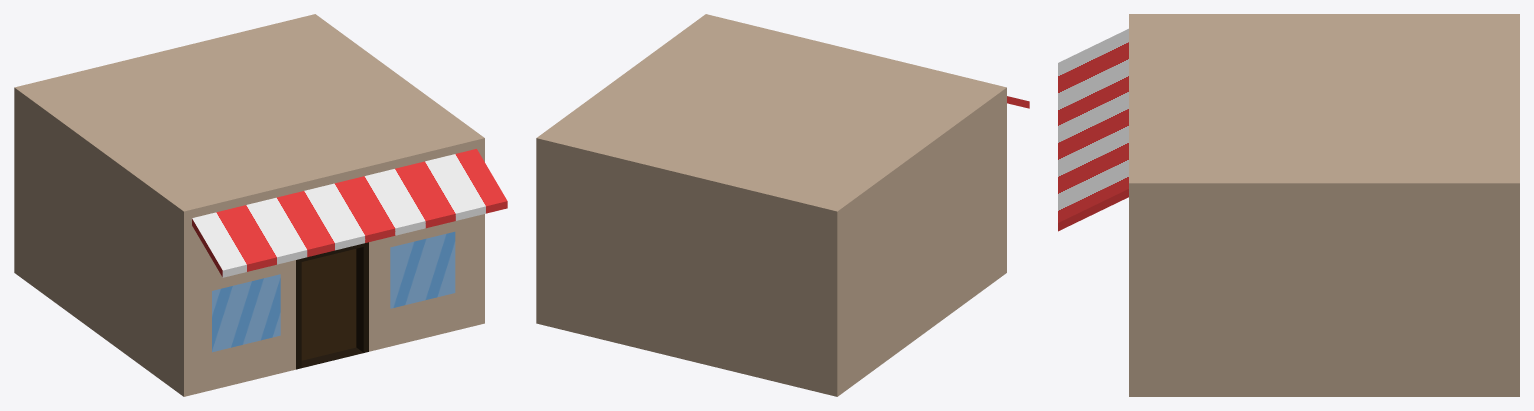
The model's file is cafe_withTexture.fbx.
3 views of the same model, side by side, from view 1: azimuth 30°, elevation 25°; view 2: azimuth 150°, elevation 25°; view 3: azimuth 270°, elevation 25° (orthographic). The views are drawn at different scales.
Parts seen in each view (by area): view 1: pCube1, pCube3; view 2: pCube1; view 3: pCube1, pCube3.
Boxes of the visible parts, x1=… form: pCube1: x1=14, y1=14, x2=484, y2=396; pCube3: x1=192, y1=149, x2=507, y2=277; pCube1: x1=536, y1=14, x2=1006, y2=396; pCube1: x1=1129, y1=14, x2=1519, y2=396; pCube3: x1=1058, y1=28, x2=1128, y2=231.
Bounding box in the file's own units: 189 × 111 × 218.
Materials: 2 (2 with a texture image).
